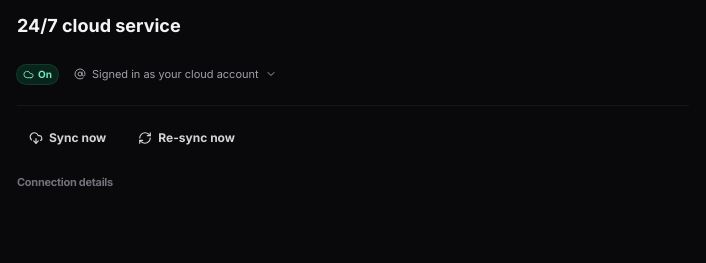
Test: Cloud › CONNECTED: a re-sync error renders an alert banner
Click the button "Re-sync now". click: (187, 138)
box: 126,122 -> 247,154
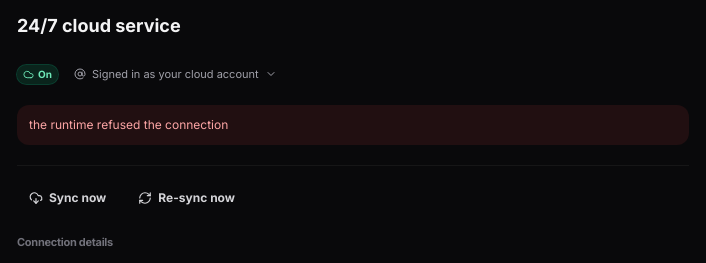
expect the message reads "the runtime refused the connection": met, box 29,116 -> 228,132
